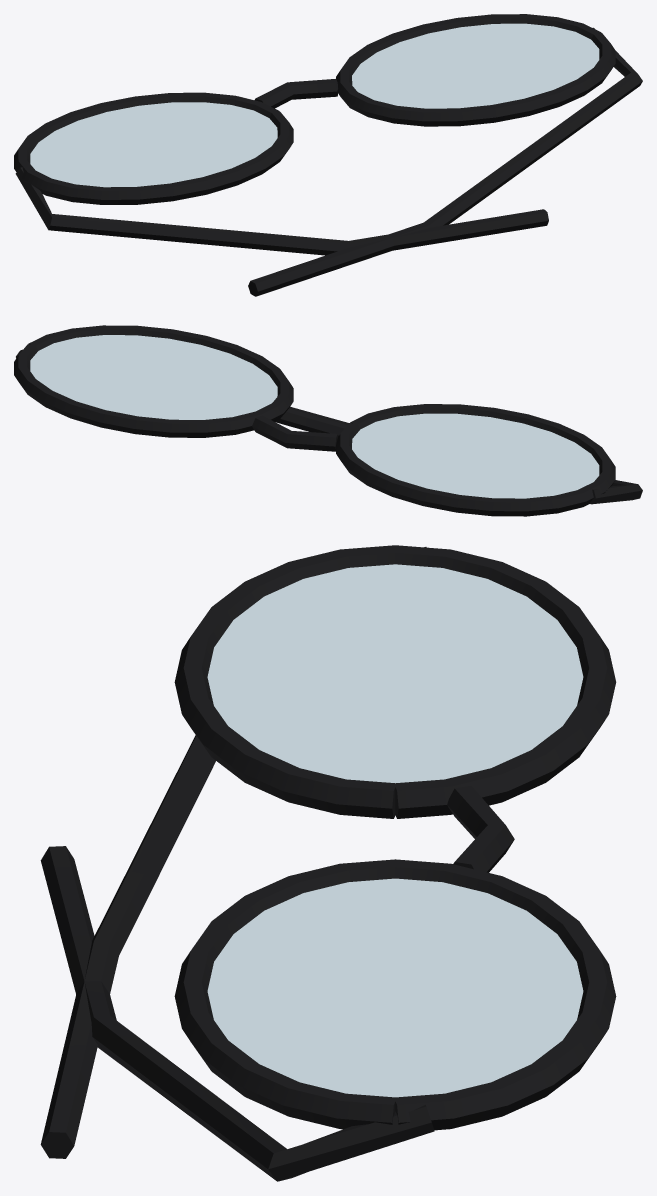
The model's file is eyeglasses.glb.
3 renders of one model, top to bottom at view 1: azimuth 30°, elevation 25°; view 2: azimuth 150°, elevation 25°; view 3: azimuth 270°, elevation 25°, orthographic. The views are drawn at different scales.
Visible parts, largest first — view 1: eyeglasses; view 2: eyeglasses; view 3: eyeglasses.
Boxes of the visible parts, x1,y1,x2,y2 form: eyeglasses: (14, 14, 642, 296); eyeglasses: (14, 325, 642, 516); eyeglasses: (40, 545, 616, 1181).
Size of the model in its own units: 0.1189 by 0.0183 by 0.05.
